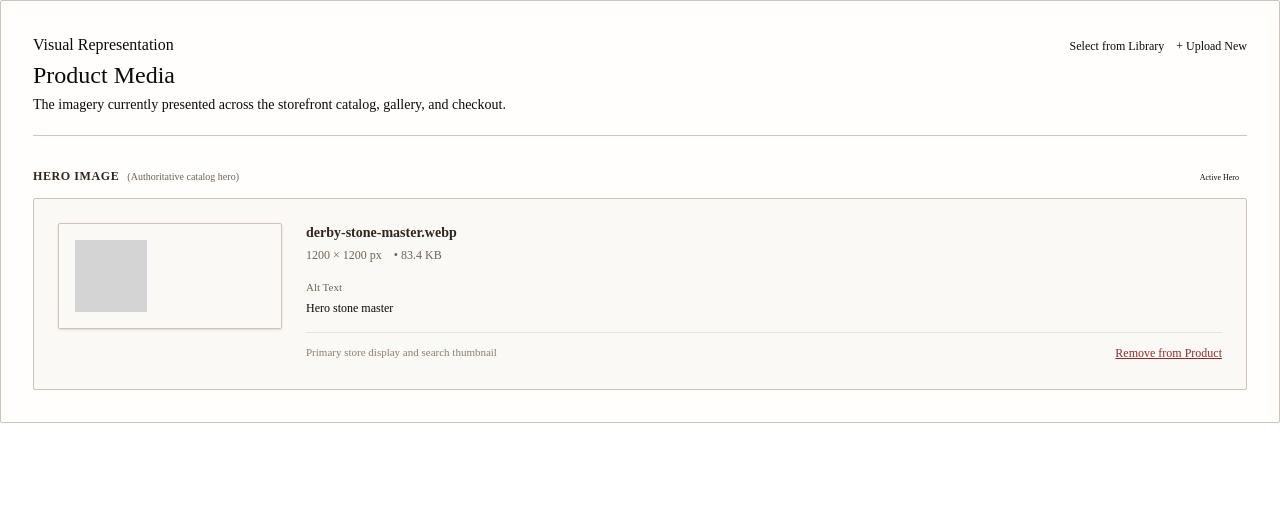
Scenario: Phase 6B: Product ↔ Media Library Integration Suite › 4. Safety Invariants (Active Last-Media & Hero Detach Confirmation) › blocks detaching final managed asset on active product
Click the button "Remove from Product": (1169, 352) [1115, 340, 1222, 364]
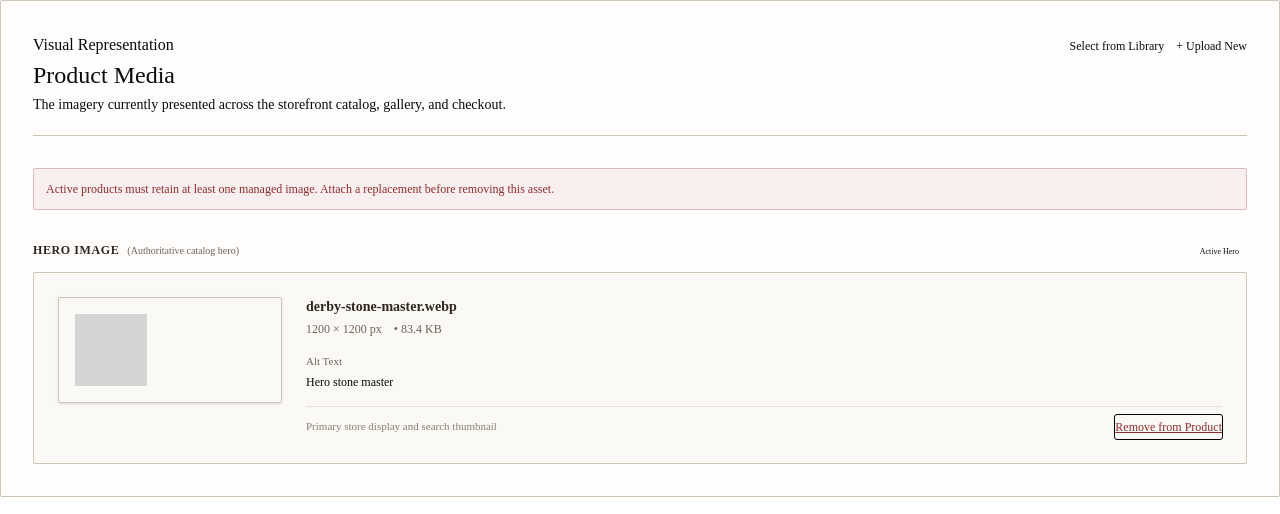
Expected: the text "Active products must retain at least one managed image" is shown, [46, 182, 554, 196]
